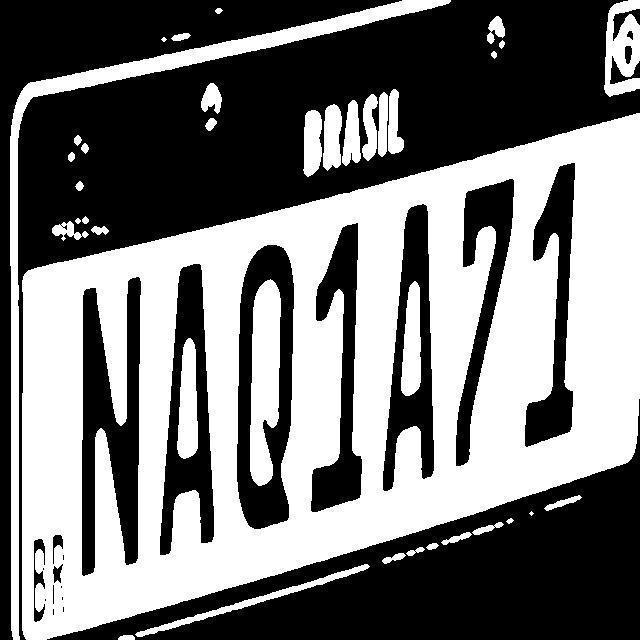1: (304, 222, 368, 520), (522, 162, 586, 450)
7: (452, 178, 516, 463)
a: (158, 252, 228, 547), (376, 203, 438, 489)
n: (80, 267, 150, 565)
q: (236, 232, 303, 524)
